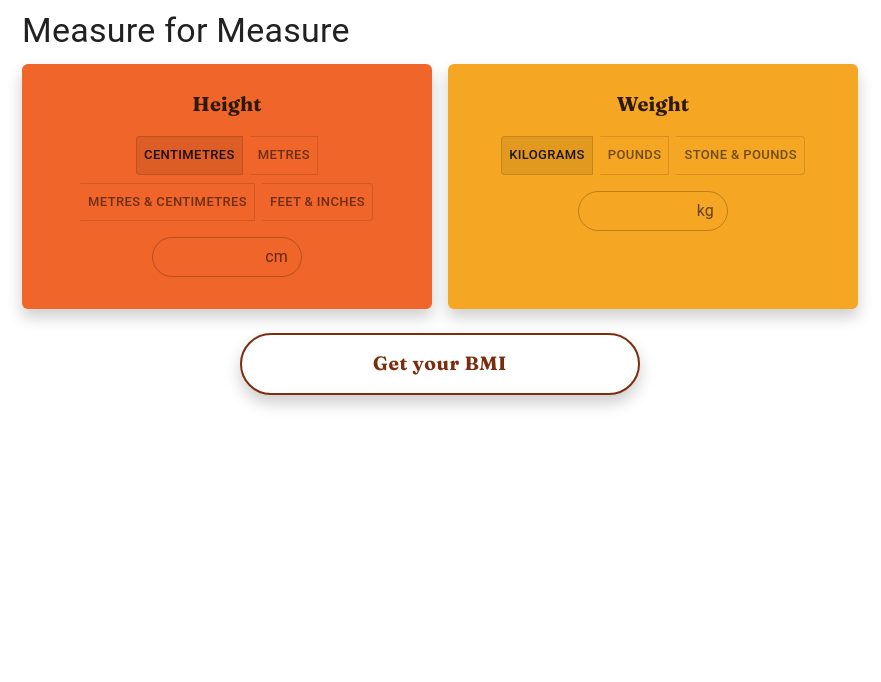
it: App › shows error if submitted with no values
Click the button "Get your BMI" at (440,364), box [240,333,640,395]
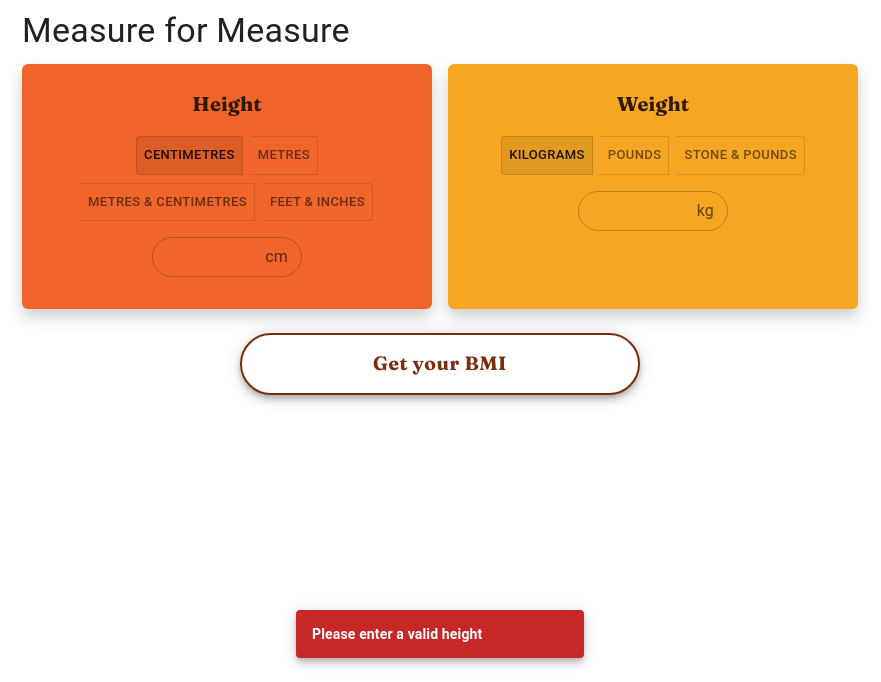
Check: the text "Please enter a valid height" is shown, box [312,626,482,642]
